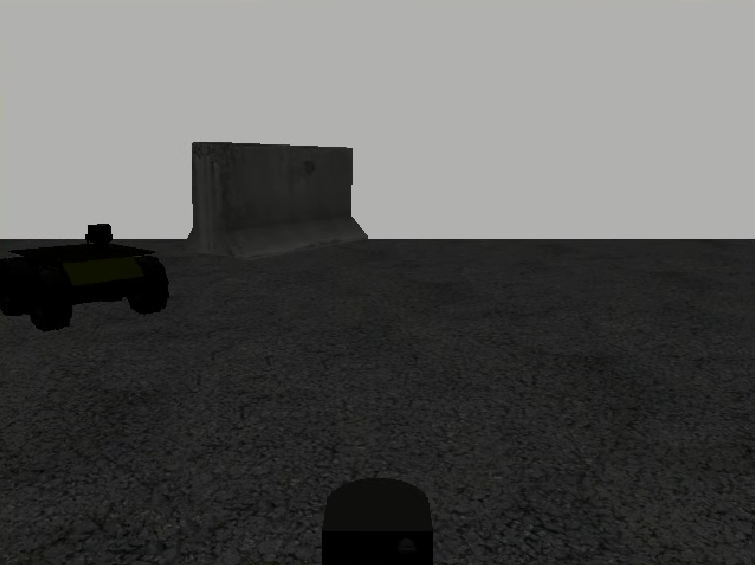husky: (1, 244, 170, 330)
